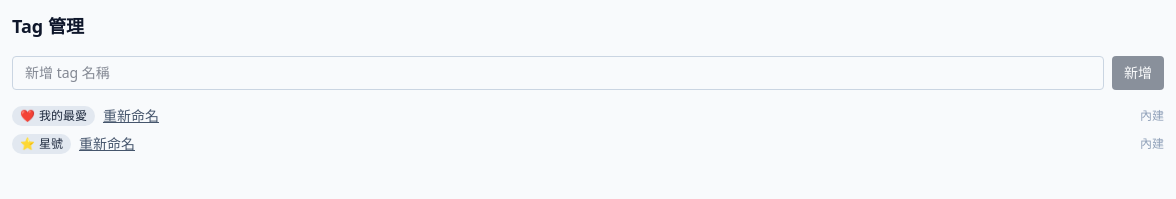
Scenario: TagManager › creates a new tag
Expected: the text "我的最愛" is shown, [39,108,87,124]
Type "TOEIC" into the field with placeholder "新增 tag 名稱" at (558, 73), box [12,56,1104,90]
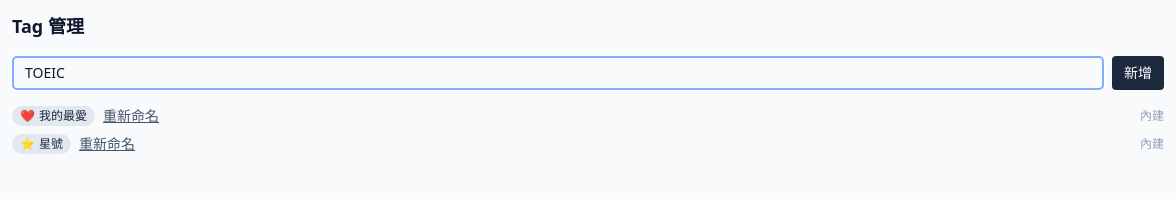
Click the button "新增" at (1138, 73), box [1112,56,1164,90]
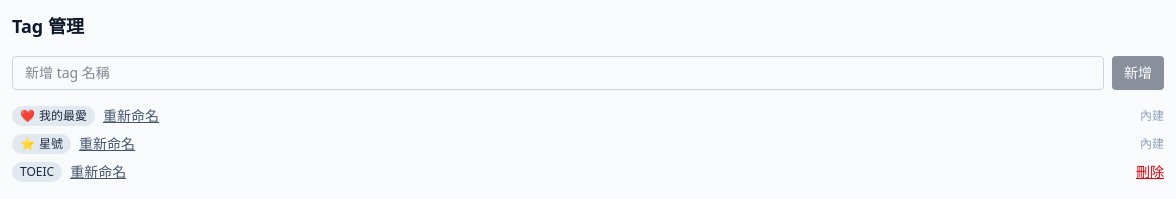
Expected: the text "TOEIC" is shown, [20,164,54,180]
